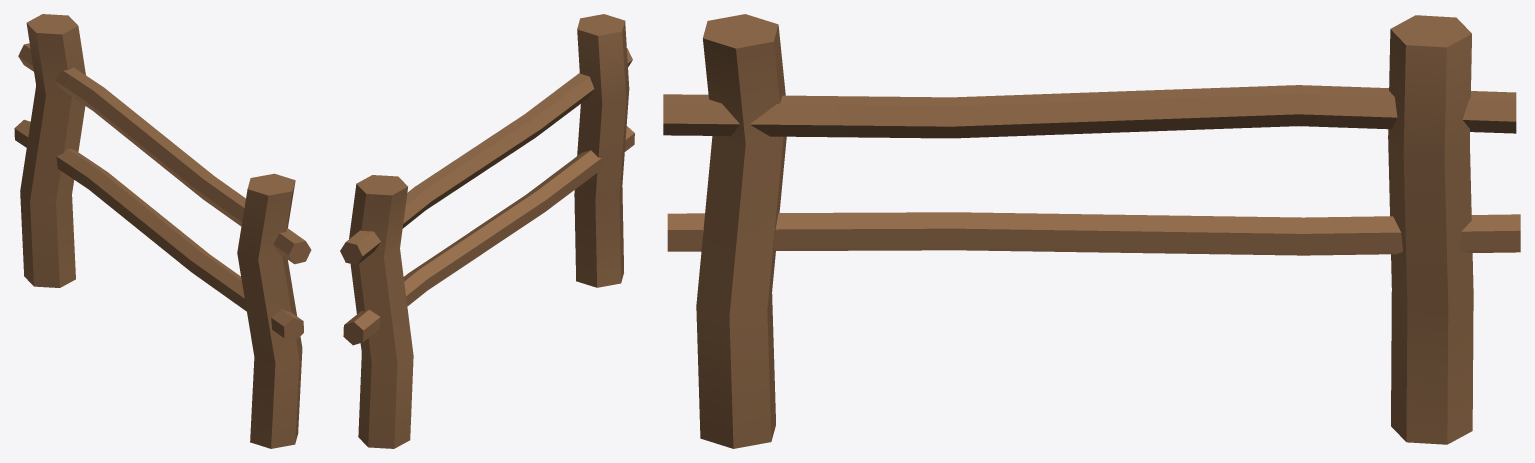
File: Barriere2.fbx
3 views of the same model, side by side, from view 1: azimuth 30°, elevation 25°; view 2: azimuth 150°, elevation 25°; view 3: azimuth 270°, elevation 25° (orthographic). The views are drawn at different scales.
Parts seen in each view (by area): view 1: pasted__pCylinder2, pasted__pCylinder4, pasted__pCylinder1, pasted__pCylinder3; view 2: pasted__pCylinder2, pasted__pCylinder4, pasted__pCylinder3, pasted__pCylinder1; view 3: pasted__pCylinder2, pasted__pCylinder1, pasted__pCylinder4, pasted__pCylinder3.
Part boxes in pixels (box(x1,y1,x2,y2)): pasted__pCylinder2: box(20, 14, 85, 287); pasted__pCylinder4: box(237, 173, 302, 448); pasted__pCylinder1: box(18, 43, 311, 264); pasted__pCylinder3: box(14, 119, 303, 341); pasted__pCylinder2: box(349, 175, 413, 448); pasted__pCylinder4: box(574, 14, 629, 287); pasted__pCylinder3: box(343, 126, 634, 345); pasted__pCylinder1: box(340, 48, 632, 265); pasted__pCylinder2: box(1388, 15, 1473, 444); pasted__pCylinder1: box(663, 85, 1516, 138); pasted__pCylinder4: box(696, 14, 786, 448); pasted__pCylinder3: box(667, 212, 1520, 255).
Bounding box in the file's own units: 23.69 × 96 × 187.
